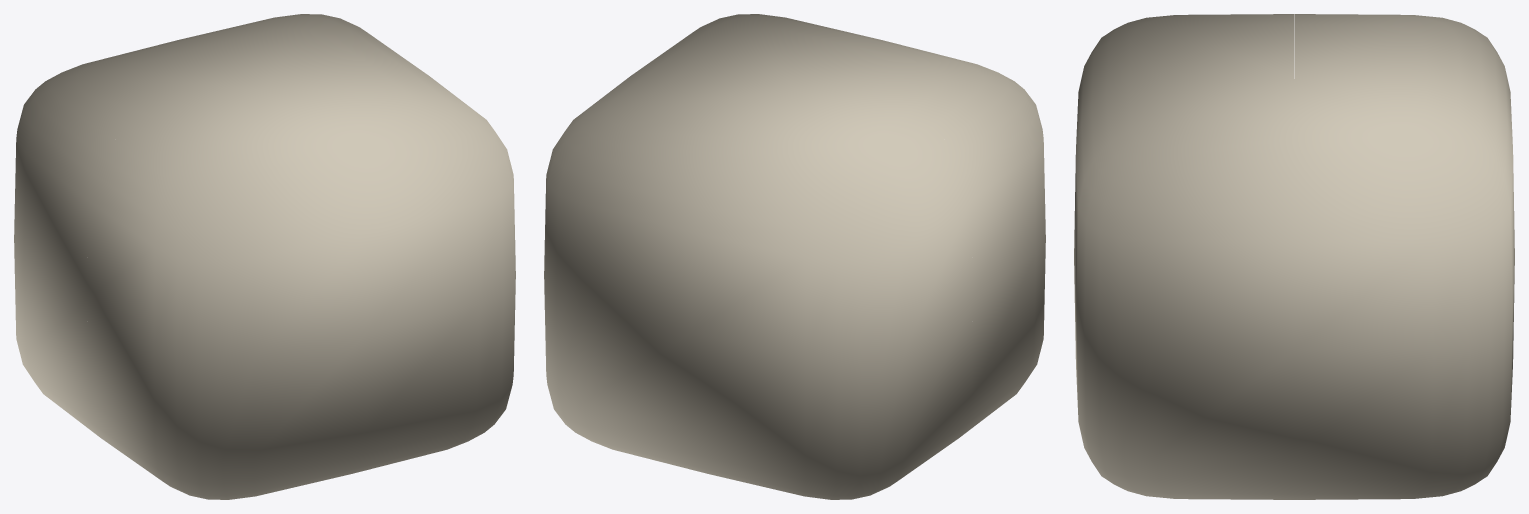
Rendered from vidaxl-outdoor-366494-g2-proxy.glb.
3 renders of one model, left to right at view 1: azimuth 30°, elevation 25°; view 2: azimuth 150°, elevation 25°; view 3: azimuth 270°, elevation 25°, orthographic. The views are drawn at different scales.
Visible parts, largest first — view 1: proxy_body; view 2: proxy_body; view 3: proxy_body.
Boxes of the visible parts, <box> form: proxy_body: <box>14,14,515,499</box>; proxy_body: <box>544,14,1045,499</box>; proxy_body: <box>1074,14,1514,499</box>.
Size of the model in its own units: 0.73 by 0.65 by 0.73.
